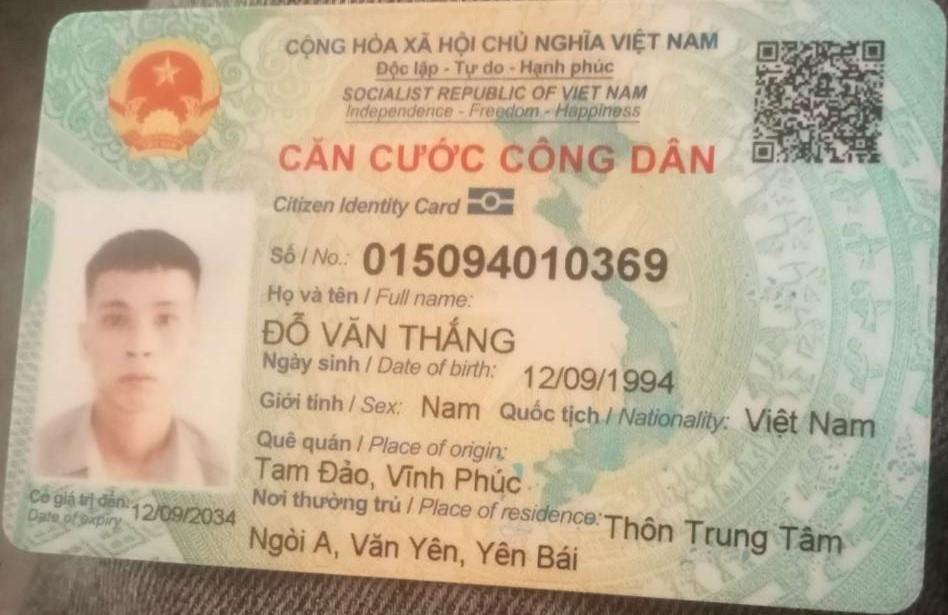ID: (355, 229, 677, 289)
birth: (510, 358, 684, 400)
name: (251, 307, 534, 357)
place: (246, 449, 535, 503)
residence: (239, 512, 594, 582), (599, 503, 856, 563)
